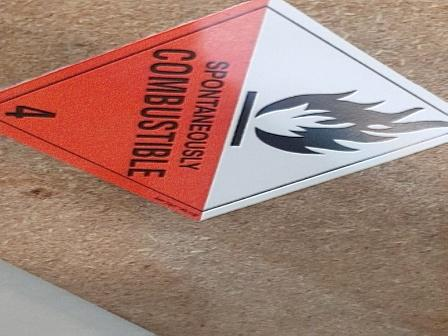spontaneously-combustible: (1, 1, 448, 222)
